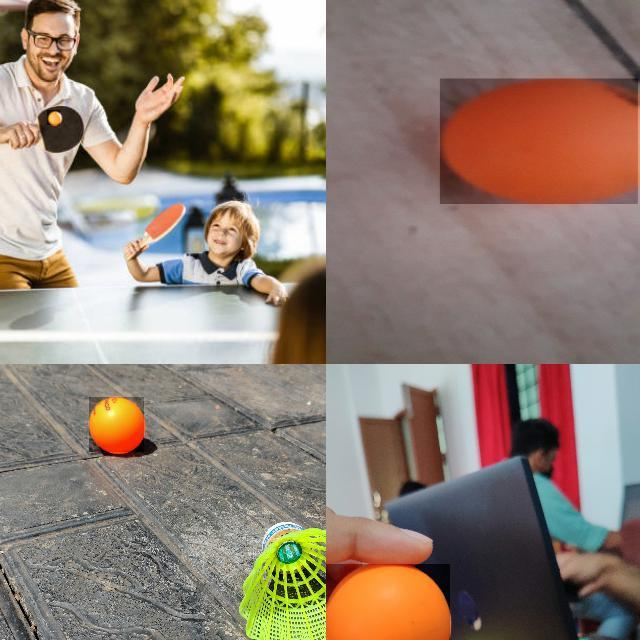ping-pong-ball: (440, 78, 639, 204), (326, 564, 452, 639), (89, 396, 145, 454), (47, 110, 61, 126)
